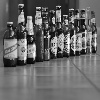beer: (35, 7, 46, 61)
